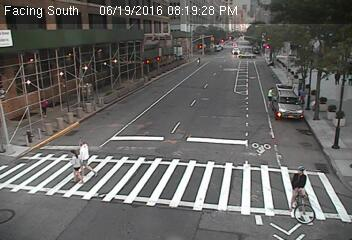neg: (278, 160, 326, 225), (93, 73, 118, 107), (172, 76, 195, 107), (216, 100, 238, 129), (208, 181, 230, 210), (270, 39, 291, 68), (252, 132, 272, 158), (94, 190, 111, 213), (269, 83, 285, 104), (151, 160, 167, 181), (55, 61, 70, 81), (144, 45, 158, 63)
pos: (58, 149, 86, 187), (71, 132, 97, 166), (38, 95, 53, 115)
